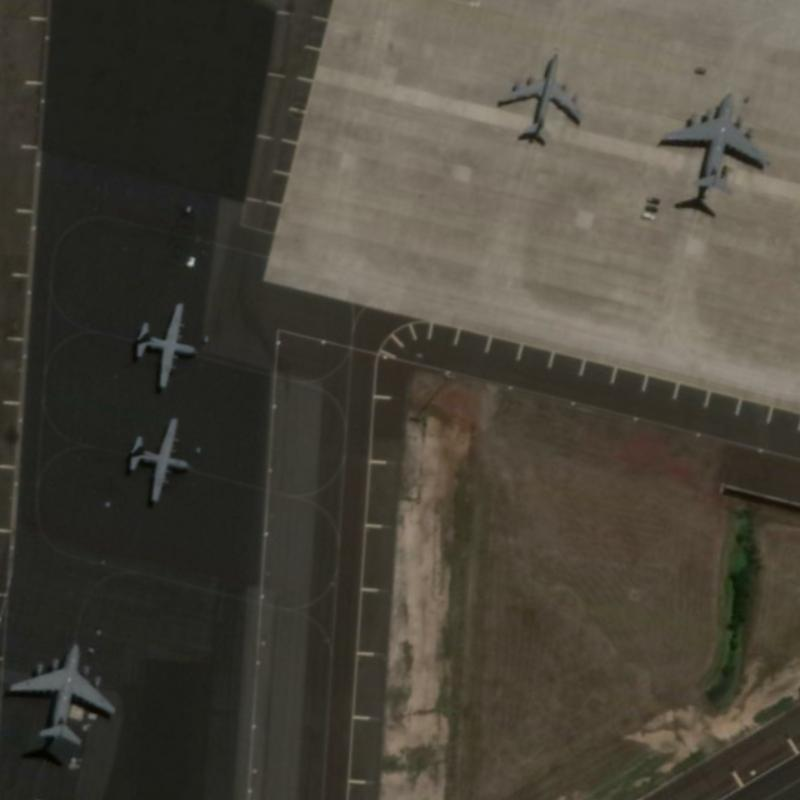A14: (493, 50, 585, 147)
A2: (122, 412, 194, 507), (130, 299, 202, 391)
A3: (657, 88, 772, 199), (7, 638, 119, 748)
